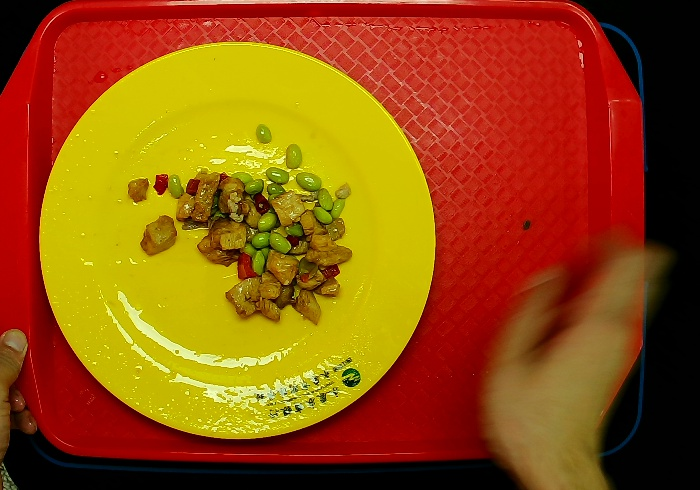YKMZ-Huang_Se_Mian_Pan: (36, 39, 435, 443)
